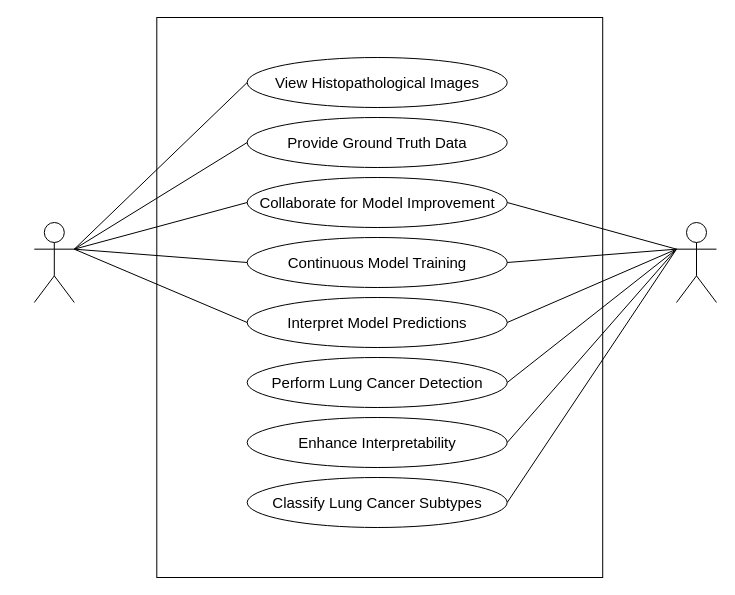
Image size: 735x595. Some labels were removed from this diagram. Here are the shapes that lost their labels. From the top down, the centre of each, then its label:
(53,262): Pathologist
(696,262): Model
